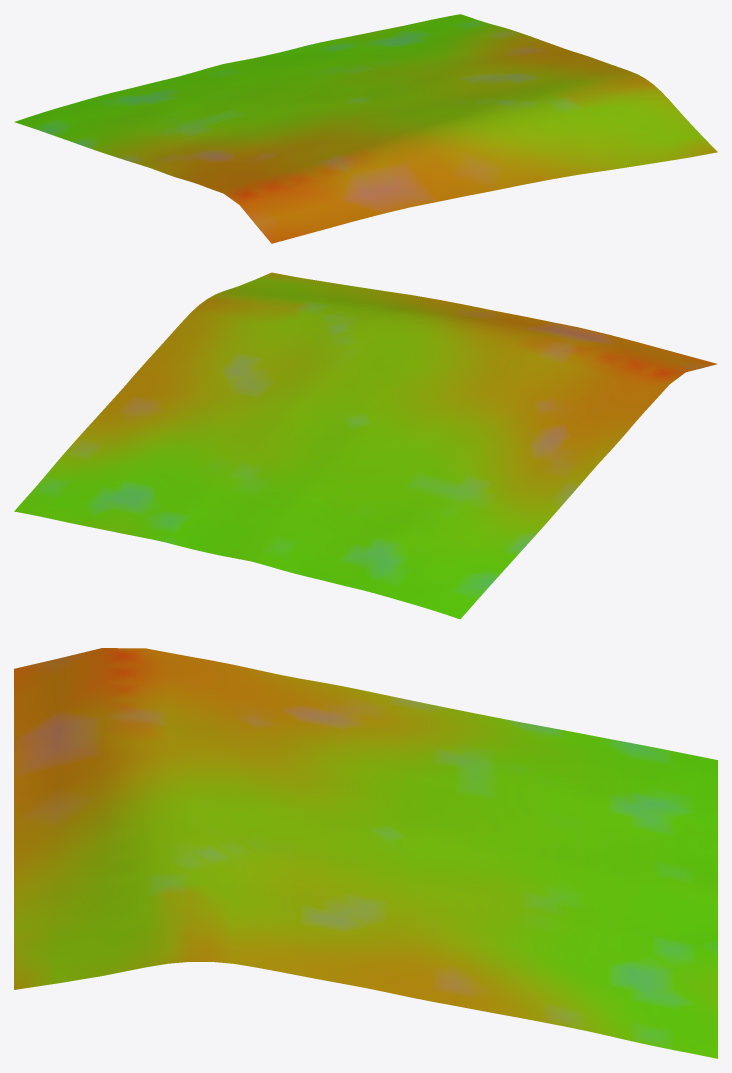
The model's file is SM_BM_BT_Terrain_6_0.glb.
3 renders of one model, top to bottom at view 1: azimuth 30°, elevation 25°; view 2: azimuth 150°, elevation 25°; view 3: azimuth 270°, elevation 25°, orthographic. The views are drawn at different scales.
Visible parts, largest first — view 1: SM_BM_BT_Terrain_6_0; view 2: SM_BM_BT_Terrain_6_0; view 3: SM_BM_BT_Terrain_6_0.
Boxes of the visible parts, x1,y1,x2,y2 form: SM_BM_BT_Terrain_6_0: (14,14,717,243); SM_BM_BT_Terrain_6_0: (14,272,717,619); SM_BM_BT_Terrain_6_0: (14,648,717,1058).
Bounding box in the file's own units: 256 × 49.01 × 256.
